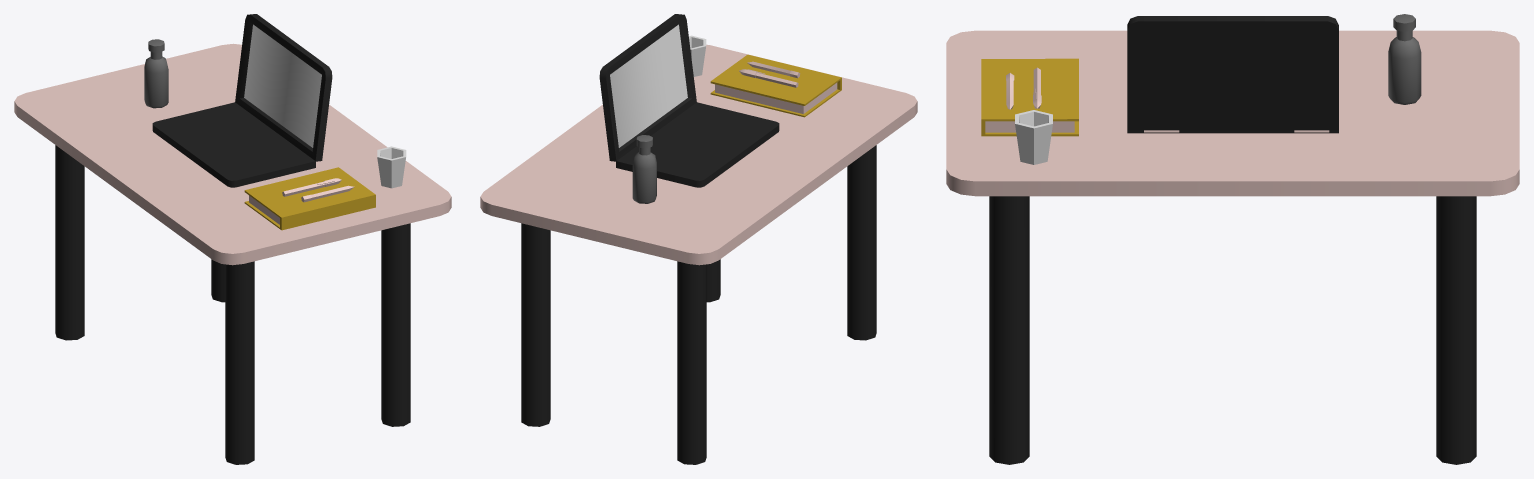
The model's file is Biro PC.fbx.
3 views of the same model, side by side, from view 1: azimuth 30°, elevation 25°; view 2: azimuth 150°, elevation 25°; view 3: azimuth 270°, elevation 25° (orthographic). The views are drawn at different scales.
Visible parts, largest first — view 1: Mesinha.007; view 2: Mesinha.007; view 3: Mesinha.007.
Boxes of the visible parts, left/top/right/bottom form: Mesinha.007: left=14, top=14, right=451, bottom=464; Mesinha.007: left=480, top=14, right=917, bottom=464; Mesinha.007: left=946, top=14, right=1519, bottom=464.
Bounding box in the file's own units: 252 × 331 × 405.
